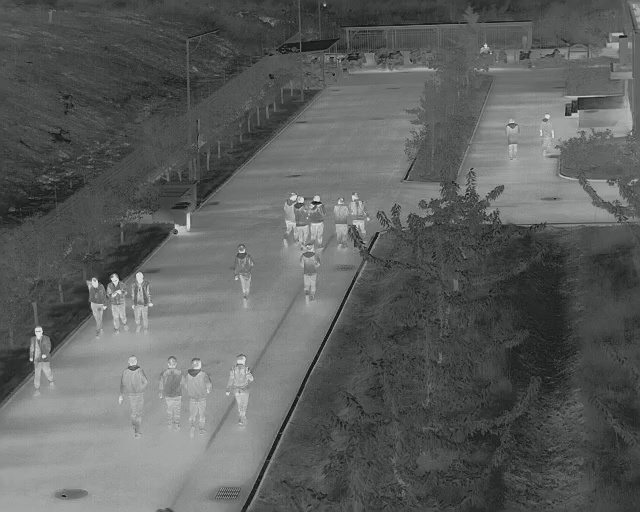NonMotorVehicle: (475, 43, 492, 73)
person: (121, 356, 149, 439), (27, 327, 58, 394), (187, 355, 212, 436), (228, 355, 255, 427), (161, 356, 185, 431), (131, 270, 155, 336), (107, 273, 131, 334), (233, 245, 254, 307), (298, 243, 319, 305), (87, 278, 107, 337), (333, 197, 349, 252), (282, 191, 297, 246), (539, 113, 556, 158), (349, 191, 368, 231), (311, 195, 326, 245), (296, 196, 309, 241), (504, 118, 519, 157)
